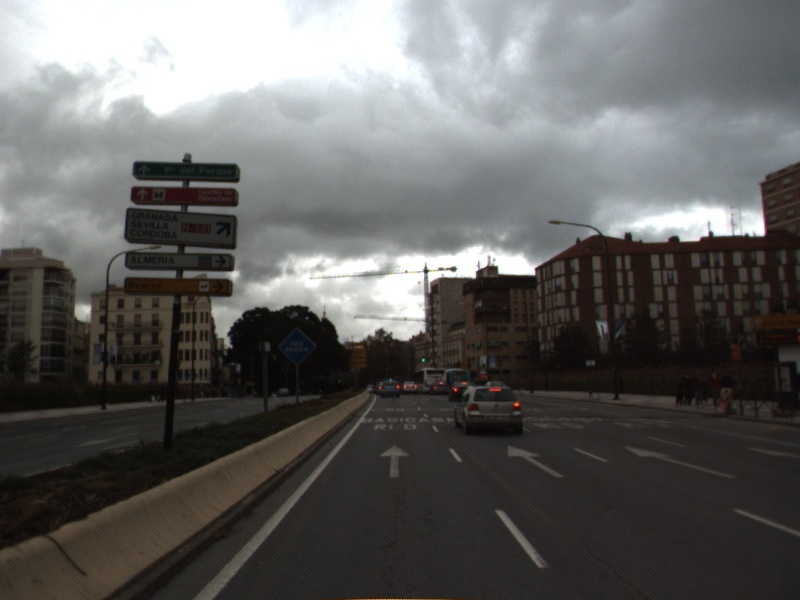STRAIGHT: (621, 444, 741, 481), (505, 443, 568, 480), (377, 442, 414, 480)
